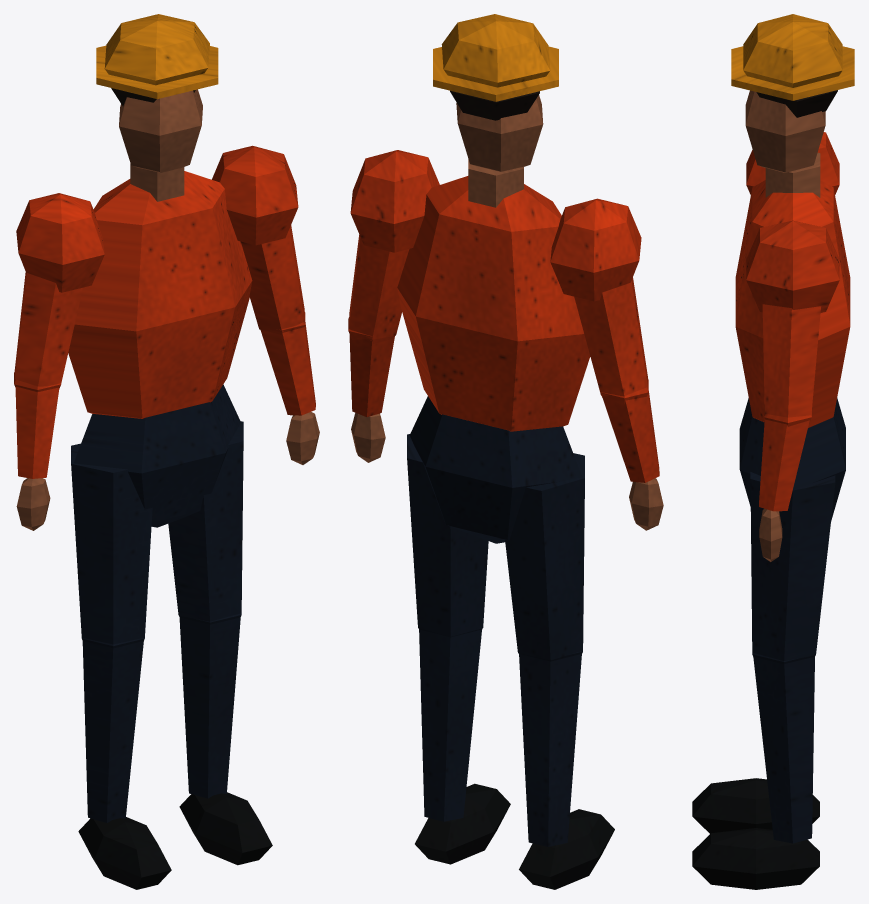
The model's file is PROP-551DA44848C9_lod2.glb.
3 views of the same model, side by side, from view 1: azimuth 30°, elevation 25°; view 2: azimuth 150°, elevation 25°; view 3: azimuth 270°, elevation 25° (orthographic). The views are drawn at different scales.
Visible parts, largest first — view 1: torso.025, thigh.024, calf.024, shoulder.025, pelvis.024, upper_arm.025, shoe.024, forearm.025, hardhat.001, head.024, hand.024, hardhat_brim.001 (+1 smaller); view 2: torso.025, thigh.024, calf.024, shoulder.025, pelvis.024, upper_arm.025, shoe.024, hardhat.001, forearm.025, head.024, hand.024, hardhat_brim.001 (+3 smaller); view 3: thigh.024, torso.025, shoe.024, calf.024, shoulder.025, hardhat.001, upper_arm.025, head.024, pelvis.024, forearm.025, hardhat_brim.001, neck.024 (+3 smaller).
Boxes of the visible parts, x1=… form: torso.025: x1=68, y1=171, x2=252, y2=418; thigh.024: x1=71, y1=421, x2=243, y2=644; calf.024: x1=82, y1=617, x2=240, y2=822; shoulder.025: x1=16, y1=145, x2=298, y2=292; pelvis.024: x1=74, y1=384, x2=240, y2=527; upper_arm.025: x1=14, y1=225, x2=304, y2=386; shoe.024: x1=78, y1=792, x2=272, y2=889; forearm.025: x1=15, y1=322, x2=315, y2=478; hardhat.001: x1=104, y1=14, x2=209, y2=85; head.024: x1=119, y1=89, x2=202, y2=172; hand.024: x1=16, y1=412, x2=319, y2=530; hardhat_brim.001: x1=96, y1=45, x2=218, y2=99; torso.025: x1=397, y1=176, x2=590, y2=431; thigh.024: x1=407, y1=434, x2=584, y2=660; calf.024: x1=419, y1=629, x2=581, y2=846; shoulder.025: x1=350, y1=150, x2=641, y2=301; pelvis.024: x1=409, y1=396, x2=582, y2=543; upper_arm.025: x1=349, y1=234, x2=647, y2=396; shoe.024: x1=415, y1=783, x2=614, y2=889; hardhat.001: x1=441, y1=14, x2=550, y2=87; forearm.025: x1=349, y1=335, x2=659, y2=482; head.024: x1=456, y1=95, x2=543, y2=171; hand.024: x1=351, y1=413, x2=663, y2=530; hardhat_brim.001: x1=433, y1=46, x2=558, y2=101; thigh.024: x1=750, y1=472, x2=835, y2=661; torso.025: x1=735, y1=180, x2=850, y2=427; shoe.024: x1=692, y1=778, x2=819, y2=889; calf.024: x1=753, y1=656, x2=814, y2=843; shoulder.025: x1=746, y1=132, x2=839, y2=312; hardhat.001: x1=743, y1=14, x2=842, y2=87; upper_arm.025: x1=762, y1=304, x2=821, y2=417; head.024: x1=745, y1=90, x2=825, y2=172; pelvis.024: x1=739, y1=398, x2=845, y2=521; forearm.025: x1=759, y1=419, x2=809, y2=511; hardhat_brim.001: x1=731, y1=46, x2=854, y2=100; neck.024: x1=765, y1=152, x2=820, y2=197.
Size of the model in its own units: 0.72 by 1.89 by 0.3305.
6 materials, 6 textured.
